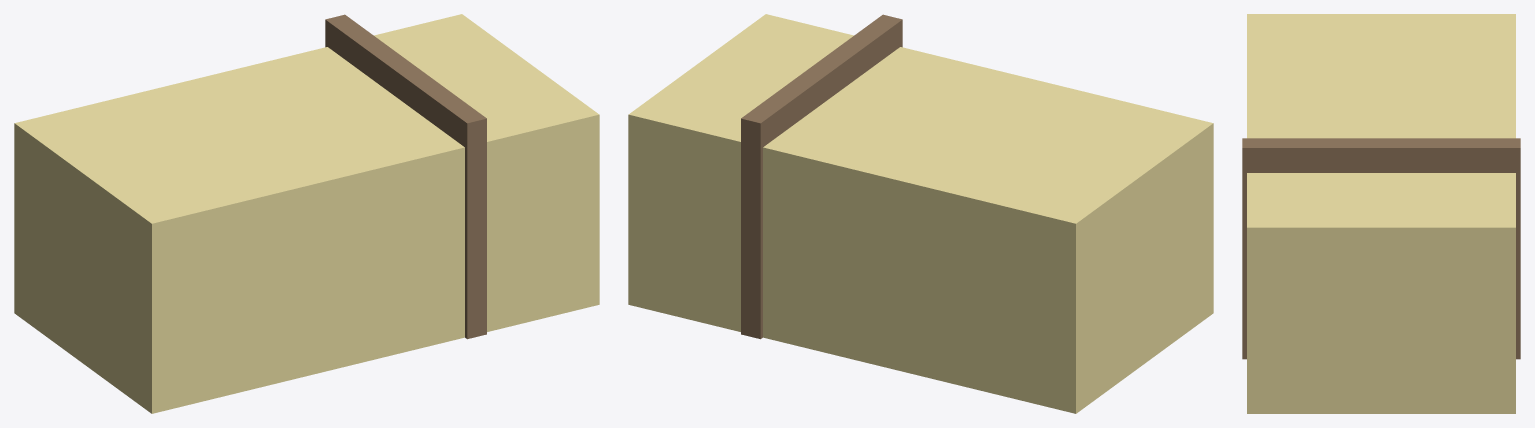
The model's file is Prop_Live_AMF_HayBale_V14.glb.
The picture shows the model from 3 angles, left to right: view 1: azimuth 30°, elevation 25°; view 2: azimuth 150°, elevation 25°; view 3: azimuth 270°, elevation 25°; orthographic projection. The views are drawn at different scales.
Parts seen in each view (by area): view 1: Prop_Live_AMF_HayBale_V14; view 2: Prop_Live_AMF_HayBale_V14; view 3: Prop_Live_AMF_HayBale_V14.
Boxes of the visible parts, x1,y1,x2,y2 form: Prop_Live_AMF_HayBale_V14: [14, 14, 599, 413]; Prop_Live_AMF_HayBale_V14: [628, 14, 1213, 413]; Prop_Live_AMF_HayBale_V14: [1242, 14, 1520, 413].
Bounding box in the file's own units: 1.13 × 0.52 × 0.62.
